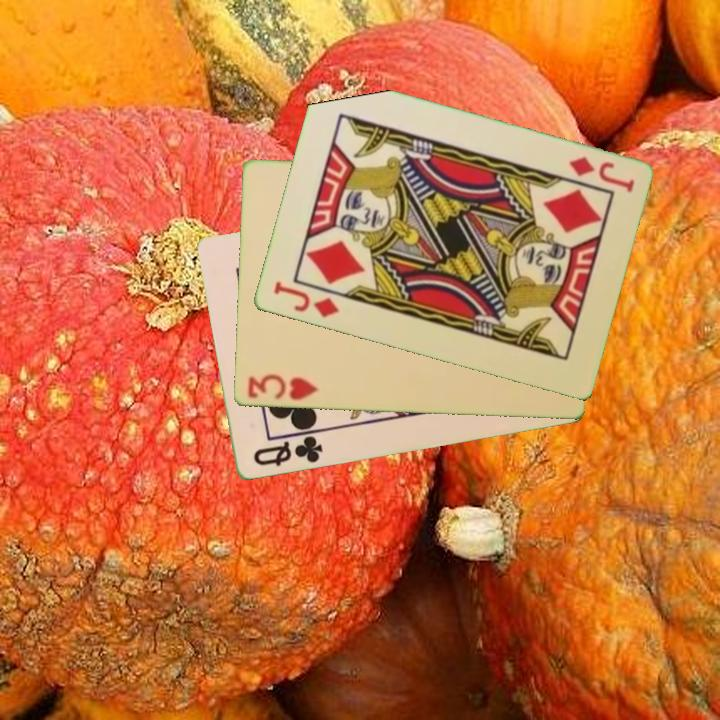3h: (244, 371, 320, 403)
Jd: (269, 278, 342, 321), (564, 153, 637, 196)
Qc: (249, 432, 326, 470)
